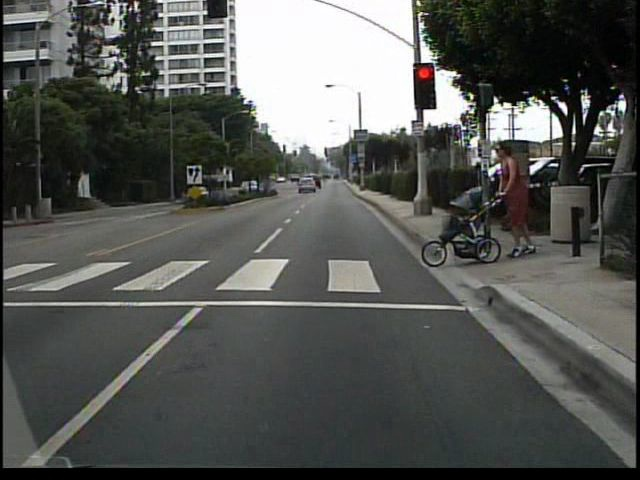person: (490, 143, 548, 262)
